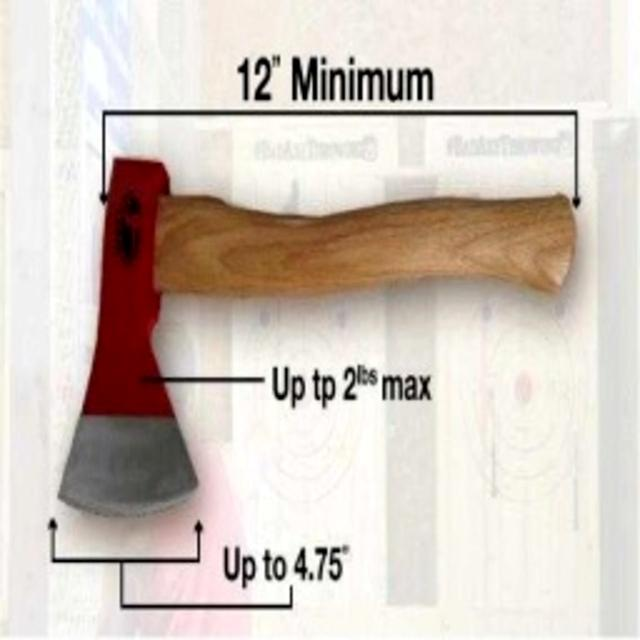ax: (47, 147, 588, 533)
